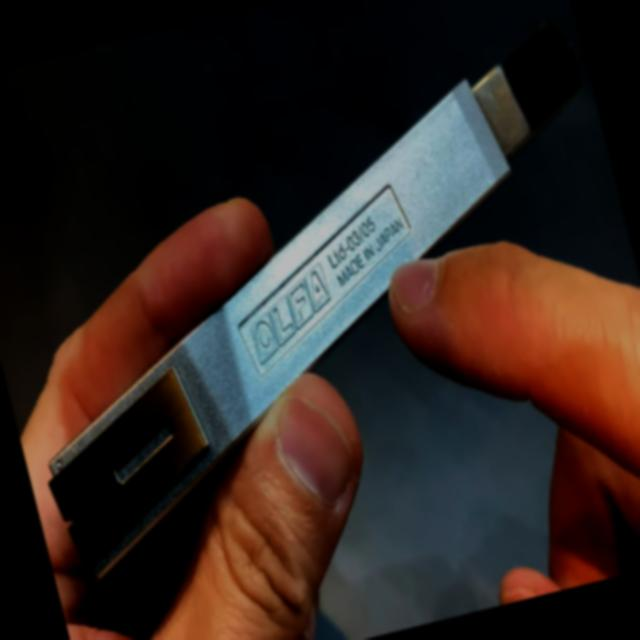cutter: (34, 0, 583, 603)
